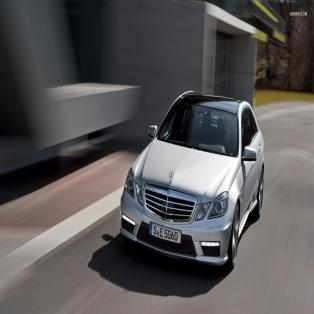Auto: (119, 82, 267, 280)
